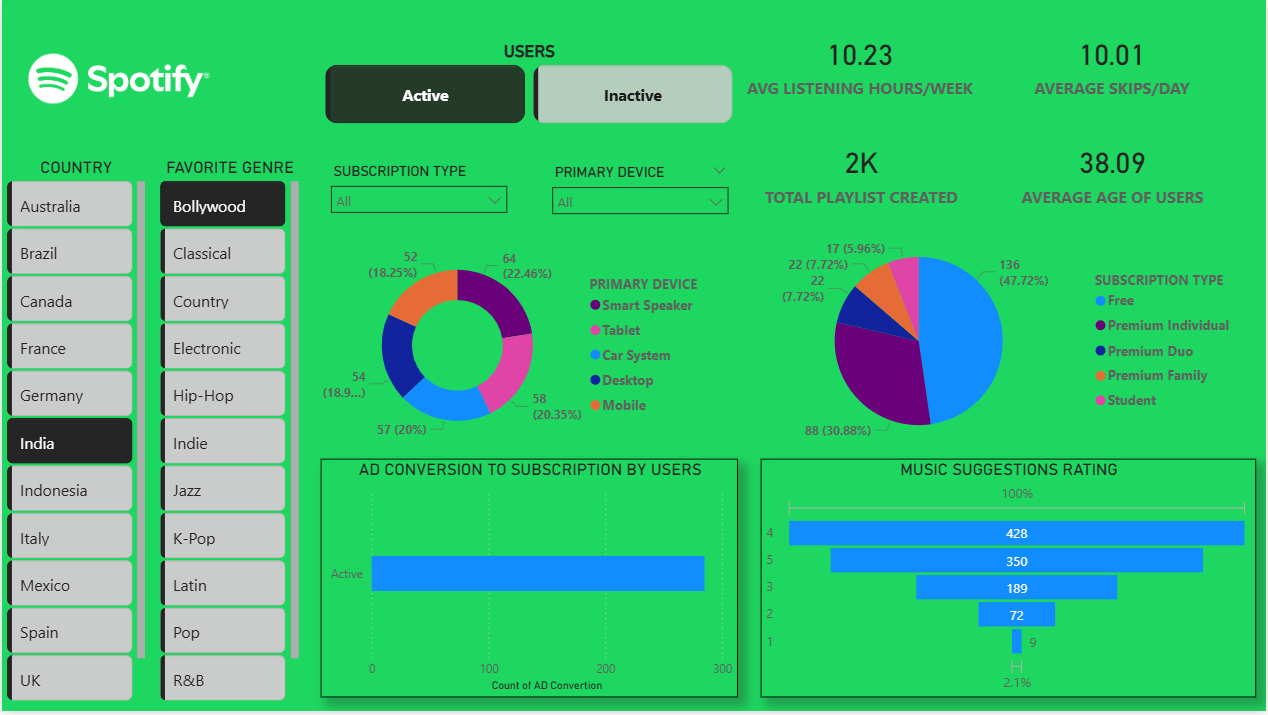

The dashboard page shown, as its layout file describes it:
{"tool":"powerbi","page":{"name":"3rd Dashboard","canvas":[1280,720],"ordinal":0},"visuals":[{"type":"advancedSlicerVisual","title":"FAVORITE GENRE","fields":{"Values":["spotify_user_behavior_realistic.favorite_genre"]},"box":[155.7,159.5,150.6,560.8],"z":0},{"type":"advancedSlicerVisual","title":"COUNTRY","fields":{"Values":["spotify_user_behavior_realistic.country"]},"box":[0,159.5,150.6,560.8],"z":1000},{"type":"donutChart","fields":{"Category":["spotify_user_behavior_realistic.primary_device"],"Y":["CountNonNull(spotify_user_behavior_realistic.primary_device)"]},"box":[322.8,235.4,405.1,229.1],"z":2000},{"type":"pieChart","fields":{"Category":["spotify_user_behavior_realistic.subscription_type"],"Y":["CountNonNull(spotify_user_behavior_realistic.subscription_type)"]},"box":[745.6,226.6,519,238],"z":3000},{"type":"funnel","title":"MUSIC SUGGESTIONS RATING","fields":{"Category":["spotify_user_behavior_realistic.music_suggestion_rating_1_to_5"],"Y":["Sum(spotify_user_behavior_realistic.music_suggestion_rating_1_to_5)"]},"box":[768.4,464.6,501.3,241.8],"z":4000},{"type":"advancedSlicerVisual","title":"USERS","fields":{"Values":["spotify_user_behavior_realistic.subscription_status"]},"box":[322.8,41.8,422.8,88.6],"z":5000},{"type":"card","fields":{"Values":["Avg(spotify_user_behavior_realistic.avg_listening_hours_per_week)"]},"box":[749.4,20.3,239.2,88.6],"z":6000},{"type":"card","fields":{"Values":["Avg(spotify_user_behavior_realistic.avg_skips_per_day)"]},"box":[1027.8,20.3,192.4,88.6],"z":7000},{"type":"card","fields":{"Values":["Sum(spotify_user_behavior_realistic.playlists_created)"]},"box":[750.6,130.4,239.2,88.6],"z":8000},{"type":"clusteredBarChart","title":"AD CONVERSION TO SUBSCRIPTION BY USERS","fields":{"Category":["spotify_user_behavior_realistic.subscription_status"],"Y":["CountNonNull(spotify_user_behavior_realistic.ad_conversion_to_subscription)"]},"box":[322.8,464.6,422.8,241.8],"z":9000},{"type":"image","box":[24.1,0,188.6,159.5],"z":10000},{"type":"slicer","fields":{"Values":["spotify_user_behavior_realistic.subscription_type"]},"box":[322.8,159.5,198.7,88.6],"z":11000},{"type":"slicer","fields":{"Values":["spotify_user_behavior_realistic.primary_device"]},"box":[546.8,160.8,198.7,88.6],"z":12000},{"type":"card","fields":{"Values":["Avg(spotify_user_behavior_realistic.age)"]},"box":[1005.1,130.4,239.2,88.6],"z":13000}]}

Visuals, with their boxes in screenshot pixels (x1, y1, x2, y2), scaled from the page's 1280x720 canvas onto the 1268x715 screenshot:
"FAVORITE GENRE" advancedSlicerVisual: <box>154,158,303,714</box>
"COUNTRY" advancedSlicerVisual: <box>0,158,149,714</box>
donutChart - spotify_user_behavior_realistic.primary_device x CountNonNull(spotify_user_behavior_realistic.primary_device): <box>320,234,721,461</box>
pieChart - spotify_user_behavior_realistic.subscription_type x CountNonNull(spotify_user_behavior_realistic.subscription_type): <box>739,225,1253,461</box>
"MUSIC SUGGESTIONS RATING" funnel: <box>761,461,1258,701</box>
"USERS" advancedSlicerVisual: <box>320,42,739,129</box>
card - Avg(spotify_user_behavior_realistic.avg_listening_hours_per_week): <box>742,20,979,108</box>
card - Avg(spotify_user_behavior_realistic.avg_skips_per_day): <box>1018,20,1209,108</box>
card - Sum(spotify_user_behavior_realistic.playlists_created): <box>744,129,981,217</box>
"AD CONVERSION TO SUBSCRIPTION BY USERS" clusteredBarChart: <box>320,461,739,701</box>
image: <box>24,0,211,158</box>
slicer - spotify_user_behavior_realistic.subscription_type: <box>320,158,517,246</box>
slicer - spotify_user_behavior_realistic.primary_device: <box>542,160,739,248</box>
card - Avg(spotify_user_behavior_realistic.age): <box>996,129,1233,217</box>
